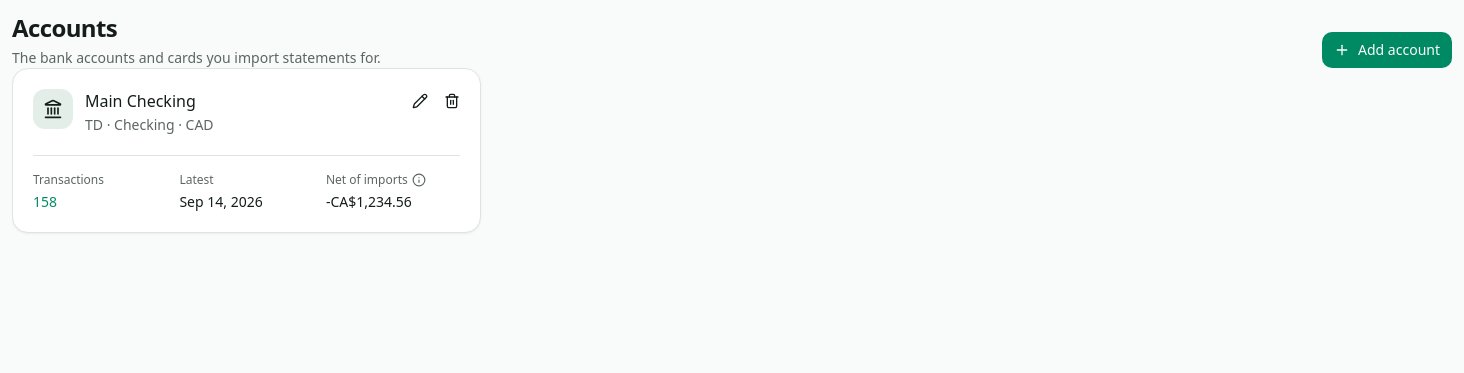
Test case: AccountsScreen › renames an account in place
Click the button named "Rename Main Checking" at point(420, 101), box [404, 85, 436, 117]
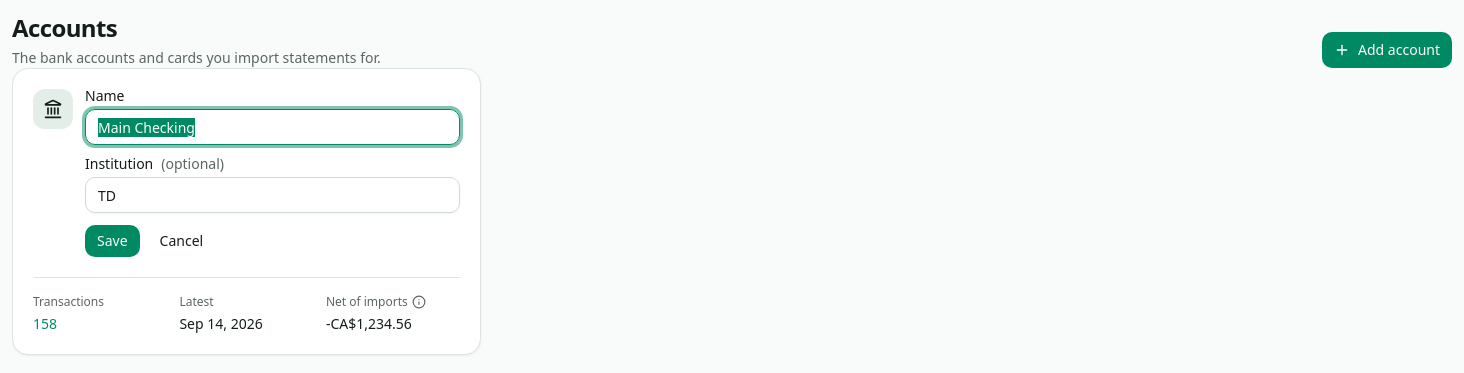
Replace the text in the field labelled "Name" with " Joint Checking " at point(273, 127), box [85, 109, 460, 145]
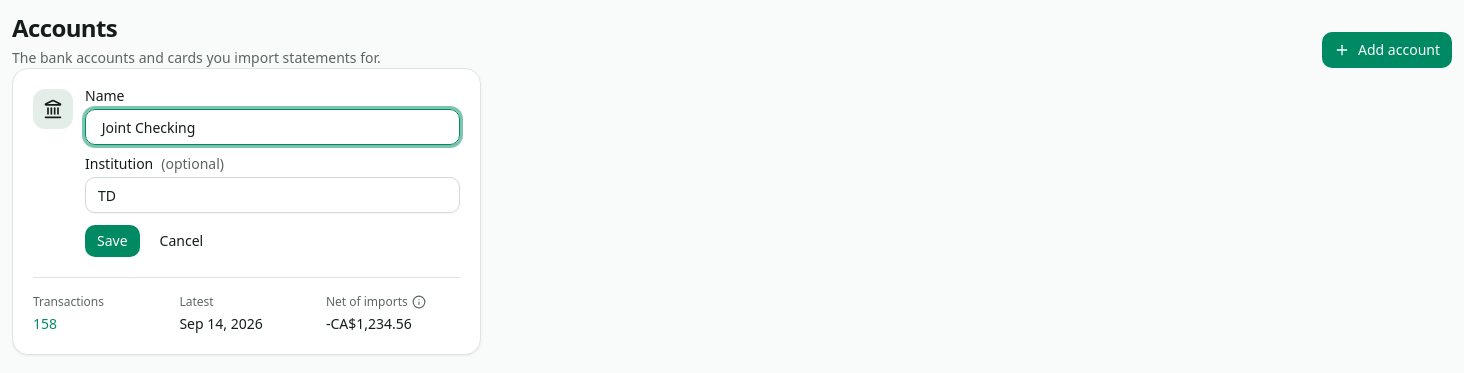
Clear the field labelled "Institution (optional)" at point(273, 195), box [85, 177, 460, 213]
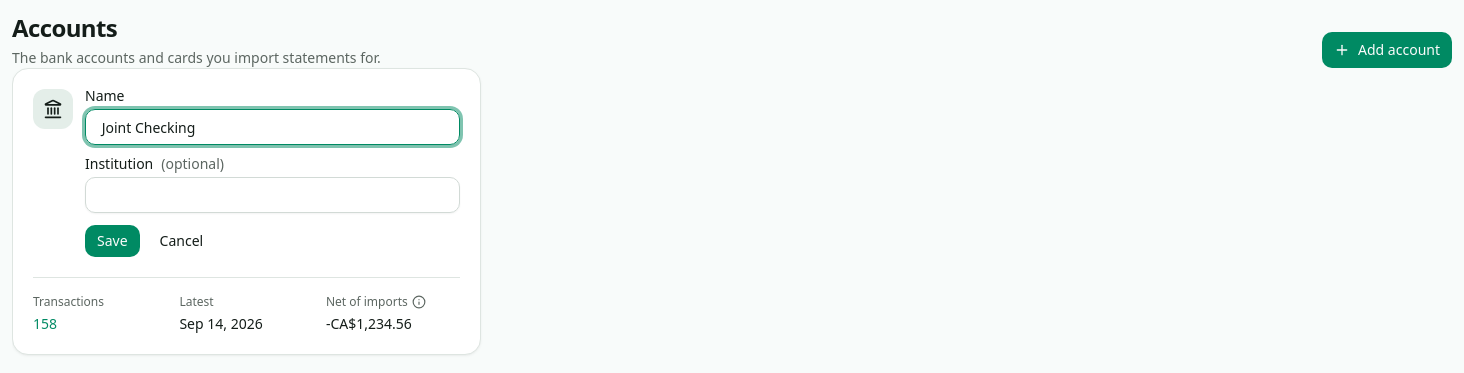
Submit the form named "Rename Main Checking", box [85, 89, 460, 257]
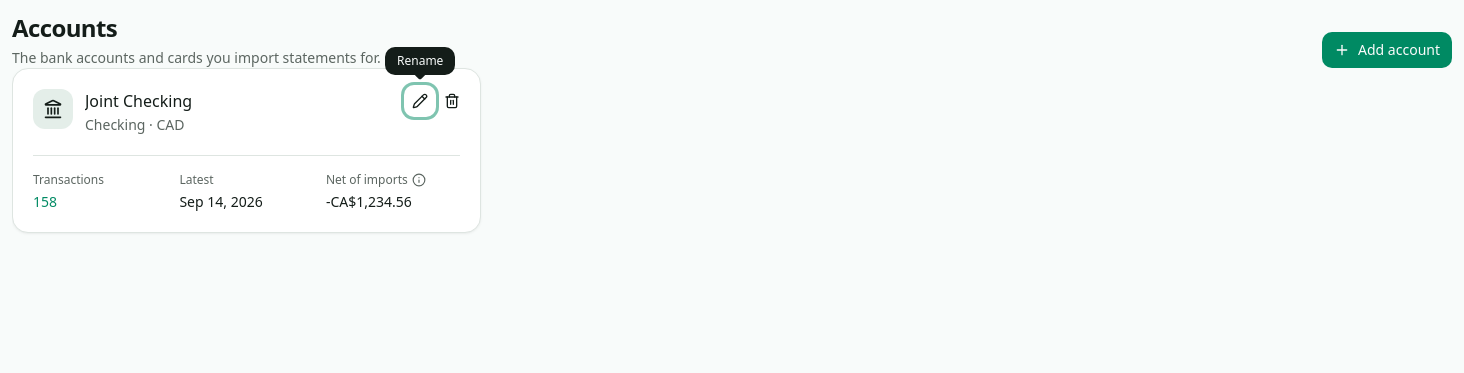
Now the heading "Joint Checking" is shown, box [85, 90, 192, 112]
Now the form is gone
